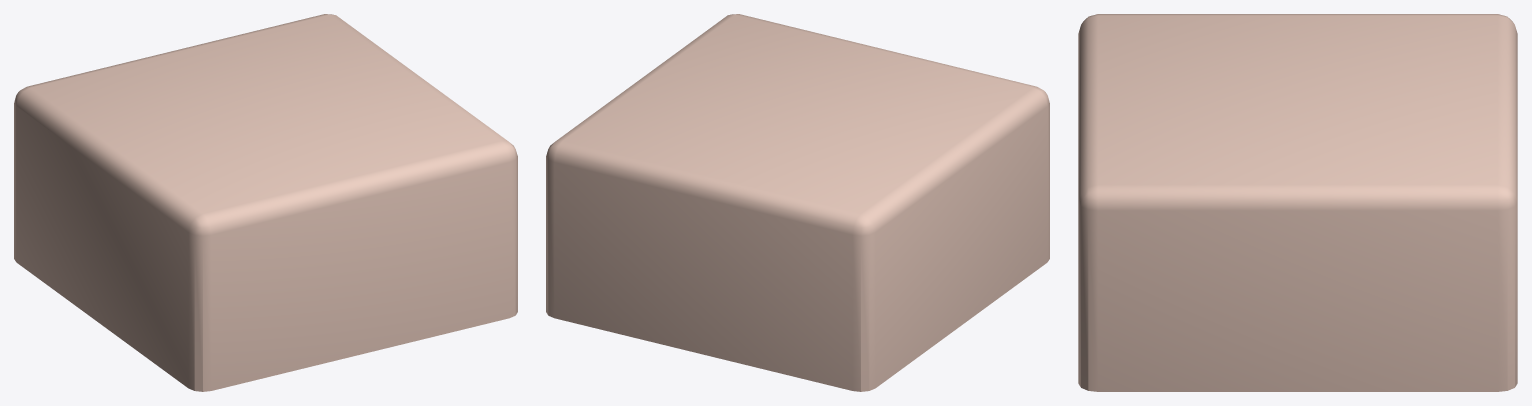
The model's file is Side_rock_small.fbx.
3 renders of one model, left to right at view 1: azimuth 30°, elevation 25°; view 2: azimuth 150°, elevation 25°; view 3: azimuth 270°, elevation 25°, orthographic. The views are drawn at different scales.
Parts seen in each view (by area): view 1: Side_rock_small; view 2: Side_rock_small; view 3: Side_rock_small.
Part boxes in pixels (x1,y1,x2,y2): Side_rock_small: (14,14,517,391); Side_rock_small: (546,14,1049,391); Side_rock_small: (1078,14,1517,391).
Bounding box in the file's own units: 100 × 50 × 100.
